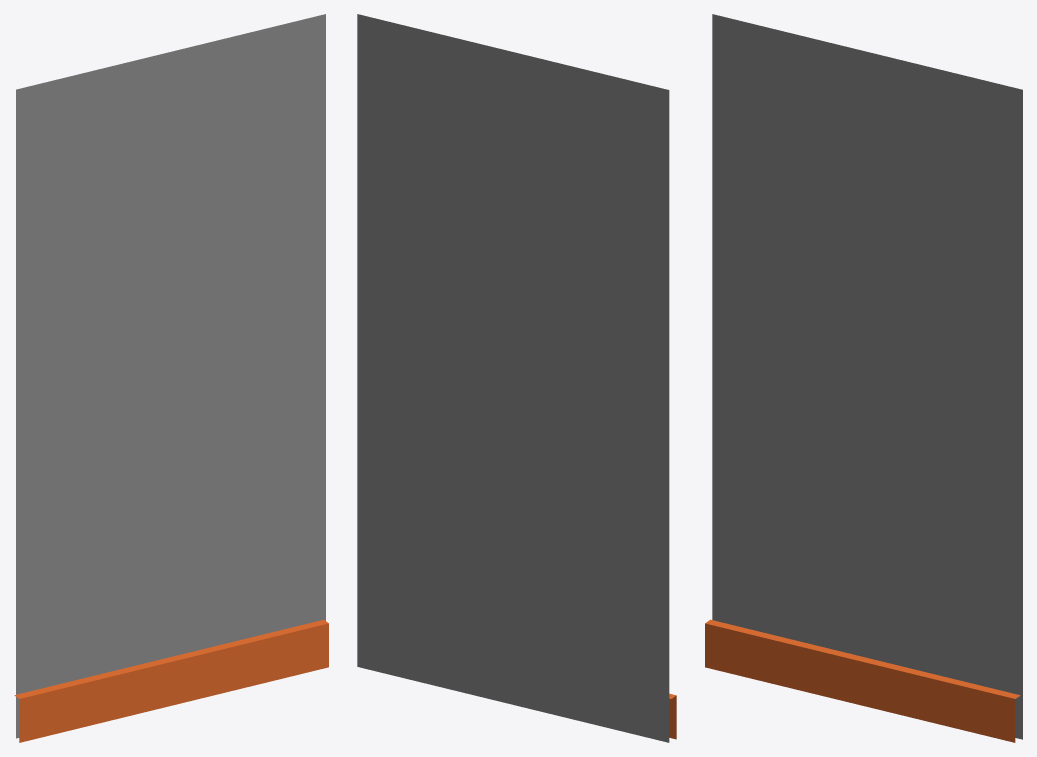
Rendered from ModuleD_wall2.FBX.
3 renders of one model, left to right at view 1: azimuth 30°, elevation 25°; view 2: azimuth 150°, elevation 25°; view 3: azimuth 330°, elevation 25°, orthographic.
Visible parts, largest first — view 1: ModuleD_wall_04, ModuleD_skboard_06; view 2: ModuleD_wall_04; view 3: ModuleD_wall_04, ModuleD_skboard_06.
Part boxes in pixels (x1,y1,x2,y2): ModuleD_wall_04: (16,14,325,738); ModuleD_skboard_06: (14,619,328,742); ModuleD_wall_04: (357,14,669,742); ModuleD_wall_04: (712,14,1022,739); ModuleD_skboard_06: (705,619,1020,742).
Size of the model in its own units: 39.6 by 1.17 by 78.74.
